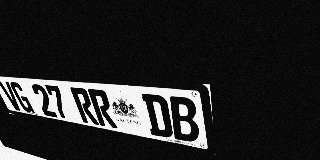2: (30, 84, 58, 118)
7: (44, 85, 72, 120)
B: (167, 96, 200, 144)
D: (141, 93, 174, 139)
G: (8, 82, 35, 113)
R: (87, 89, 118, 128), (69, 87, 99, 125)
V: (0, 81, 24, 111)
